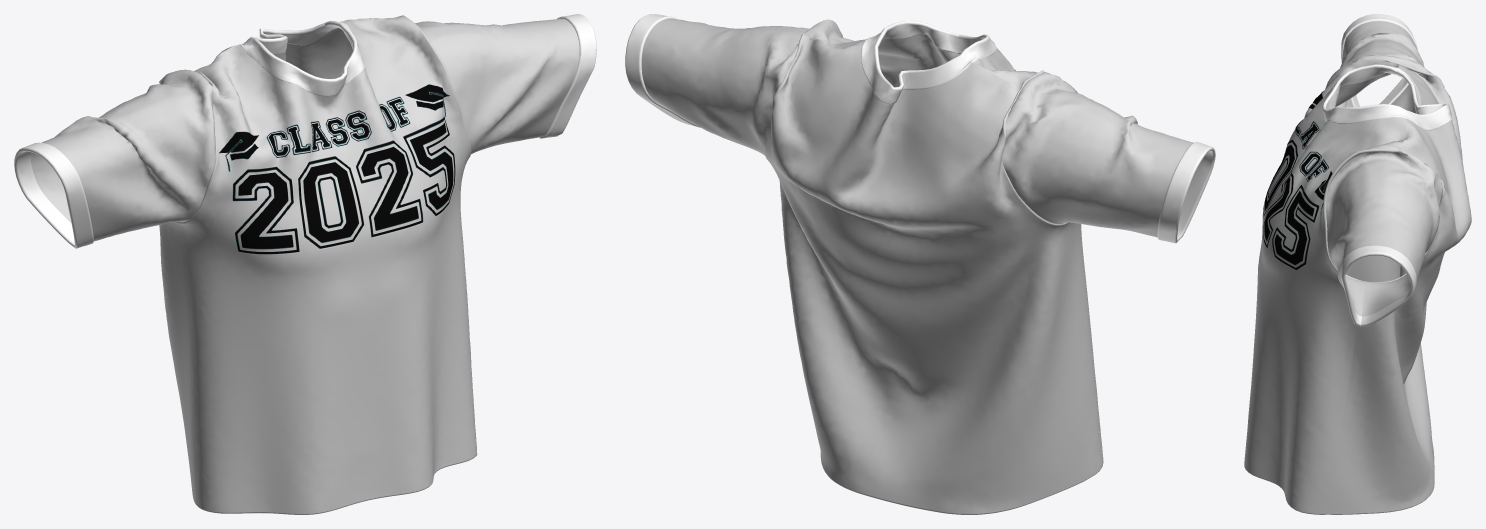
The model's file is 2025anim.glb.
The picture shows the model from 3 angles, left to right: view 1: azimuth 30°, elevation 25°; view 2: azimuth 150°, elevation 25°; view 3: azimuth 270°, elevation 25°; orthographic projection. The views are drawn at different scales.
Parts seen in each view (by area): view 1: 2025 anim; view 2: 2025 anim; view 3: 2025 anim.
Boxes of the visible parts, bbox=[...] form: 2025 anim: bbox=[14, 14, 596, 514]; 2025 anim: bbox=[625, 14, 1215, 514]; 2025 anim: bbox=[1244, 14, 1471, 514].
Size of the model in its own units: 0.8261 by 0.626 by 0.3317.
Materials: 3 (1 with a texture image).
